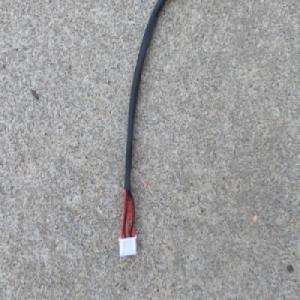Wire: (116, 0, 168, 261)
